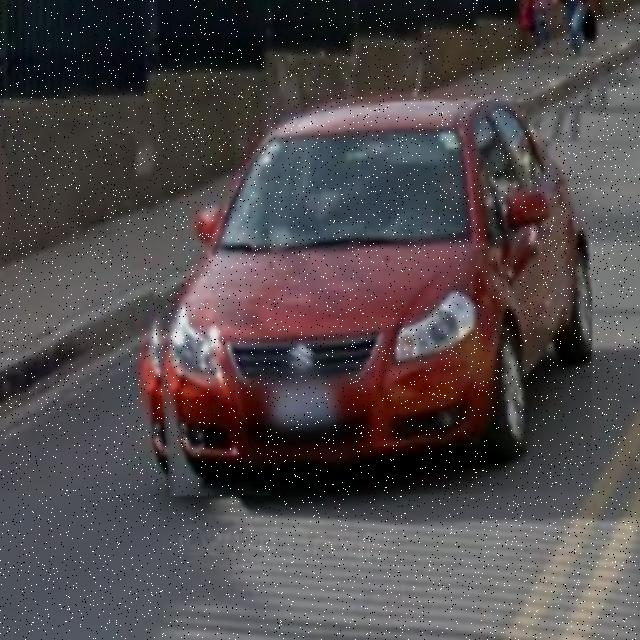car: (140, 103, 594, 497)
